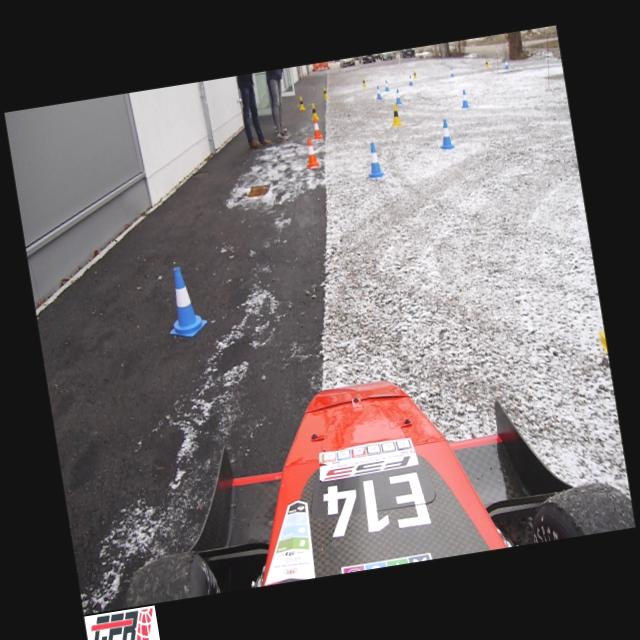blue_cone: (160, 264, 209, 340), (364, 141, 384, 178), (437, 118, 454, 150), (459, 89, 468, 108), (394, 89, 402, 104), (376, 85, 382, 98), (384, 80, 389, 91), (408, 76, 413, 86), (450, 68, 454, 77), (504, 59, 508, 68)
orange_cone: (303, 136, 319, 167), (311, 116, 323, 140)
yellow_cone: (390, 103, 402, 127), (310, 102, 318, 120), (298, 96, 305, 110), (322, 86, 329, 98), (412, 70, 417, 78), (362, 77, 366, 86), (485, 59, 488, 68)
